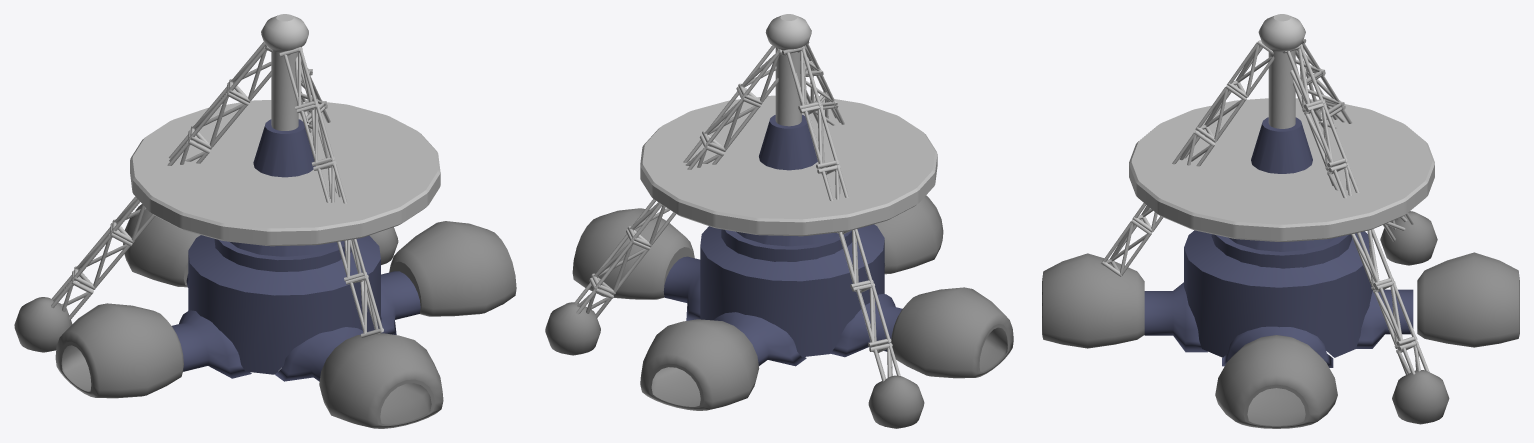
File: model_center_v3.fbx
3 renders of one model, left to right at view 1: azimuth 30°, elevation 25°; view 2: azimuth 150°, elevation 25°; view 3: azimuth 270°, elevation 25°, orthographic. The views are drawn at different scales.
Parts seen in each view (by area): view 1: polySurface95, polySurface86, polySurface94, polySurface93, polySurface91, polySurface92, polySurface99, polySurface89, polySurface98, polySurface304, polySurface87, polySurface96 (+3 smaller); view 2: polySurface95, polySurface86, polySurface94, polySurface92, polySurface91, polySurface93, polySurface99, polySurface98, polySurface304, polySurface305, polySurface90, polySurface96 (+3 smaller); view 3: polySurface95, polySurface86, polySurface91, polySurface92, polySurface93, polySurface99, polySurface87, polySurface98, polySurface305, polySurface96, polySurface304, polySurface90 (+2 smaller).
Part boxes in pixels (<box>): polySurface95: <box>130,100,440,246</box>; polySurface86: <box>188,235,380,374</box>; polySurface94: <box>55,303,183,398</box>; polySurface93: <box>319,333,443,428</box>; polySurface91: <box>389,221,516,316</box>; polySurface92: <box>123,204,200,287</box>; polySurface99: <box>261,14,308,130</box>; polySurface89: <box>172,310,251,378</box>; polySurface98: <box>253,119,315,177</box>; polySurface304: <box>14,297,72,352</box>; polySurface87: <box>275,327,363,381</box>; polySurface96: <box>214,239,351,271</box>; polySurface95: <box>640,95,937,236</box>; polySurface86: <box>700,224,884,357</box>; polySurface94: <box>891,287,1013,378</box>; polySurface92: <box>640,319,759,410</box>; polySurface91: <box>572,208,694,299</box>; polySurface93: <box>874,195,943,274</box>; polySurface99: <box>765,14,811,126</box>; polySurface98: <box>759,114,817,170</box>; polySurface304: <box>868,375,924,428</box>; polySurface305: <box>545,302,600,355</box>; polySurface90: <box>714,312,806,366</box>; polySurface96: <box>721,229,852,261</box>; polySurface95: <box>1129,98,1434,241</box>; polySurface86: <box>1184,230,1372,357</box>; polySurface91: <box>1215,335,1337,428</box>; polySurface92: <box>1417,252,1519,347</box>; polySurface93: <box>1042,253,1144,348</box>; polySurface99: <box>1258,14,1305,128</box>; polySurface87: <box>1144,282,1207,352</box>; polySurface98: <box>1251,117,1312,173</box>; polySurface305: <box>1392,370,1449,424</box>; polySurface96: <box>1212,234,1351,268</box>; polySurface304: <box>1380,211,1437,265</box>; polySurface90: <box>1356,289,1413,348</box>.
Size of the model in its own units: 843 by 652 by 849.
